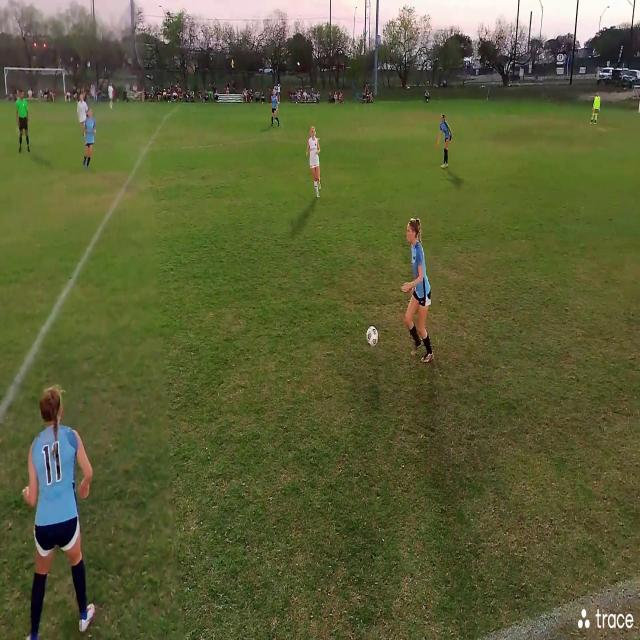ball: (364, 321, 379, 349)
team1: (21, 381, 100, 639), (399, 214, 438, 376), (438, 109, 456, 175), (84, 109, 95, 171), (271, 88, 281, 128)
team2: (306, 125, 324, 200), (78, 93, 88, 135), (108, 82, 114, 110)
